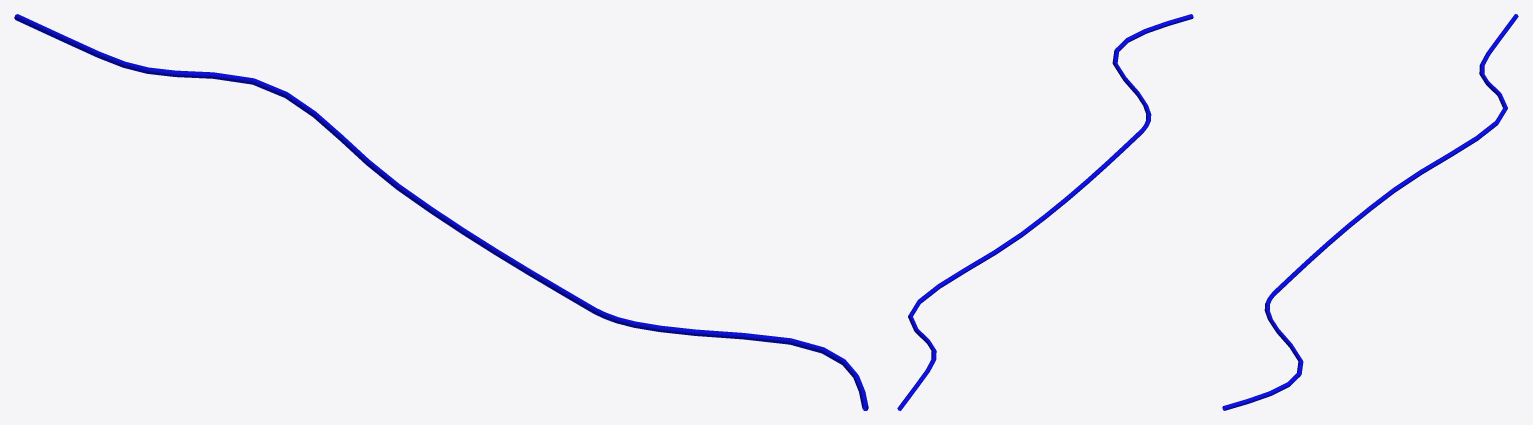
3 renders of one model, left to right at view 1: azimuth 30°, elevation 25°; view 2: azimuth 150°, elevation 25°; view 3: azimuth 330°, elevation 25°, orthographic. The views are drawn at different scales.
Visible parts, largest first — view 1: FC_1; view 2: FC_1; view 3: FC_1.
Part boxes in pixels (x1=…): FC_1: x1=14, y1=14, x2=868, y2=410; FC_1: x1=897, y1=14, x2=1193, y2=410; FC_1: x1=1222, y1=14, x2=1518, y2=410.
Size of the model in its own units: 64.15 by 1.15 by 251.
